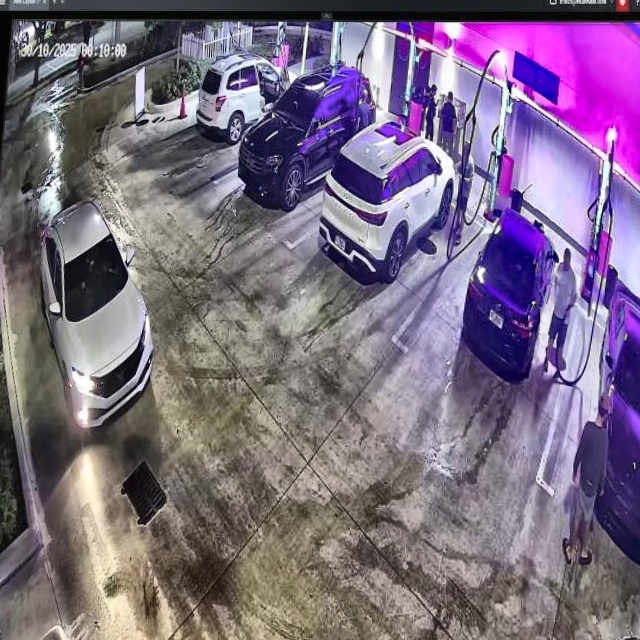Car: (319, 120, 453, 288), (234, 66, 377, 198), (463, 209, 556, 377)
